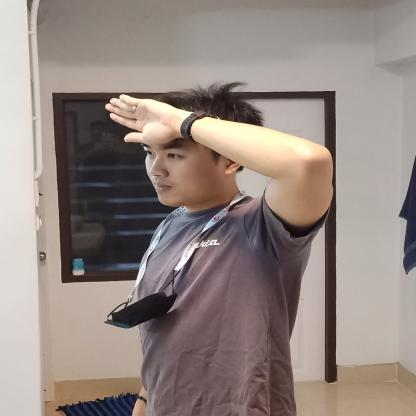Sick: (84, 89, 340, 204)
